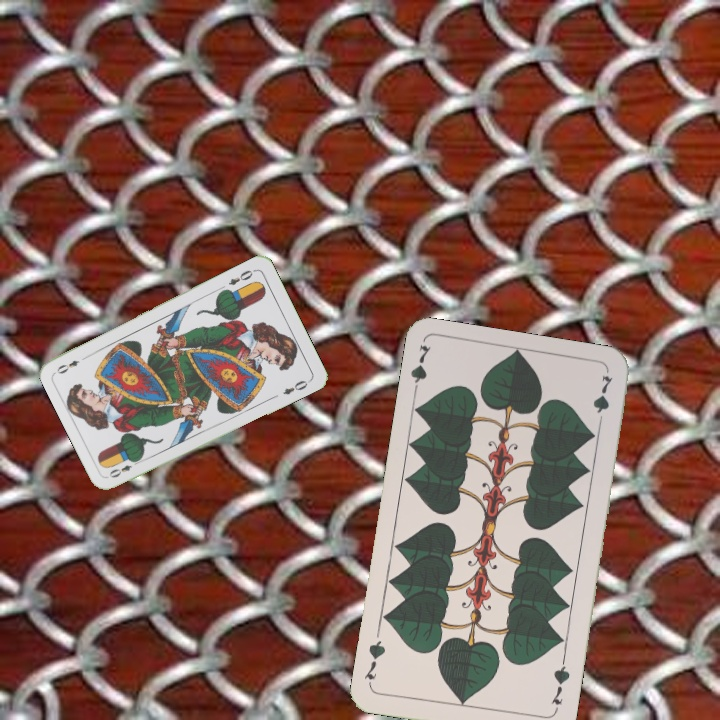EO: (105, 456, 143, 480), (224, 265, 258, 288)
G7: (406, 341, 433, 400), (547, 657, 573, 707)
